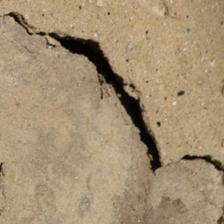Crack: (38, 67, 123, 158), (72, 29, 224, 61)
